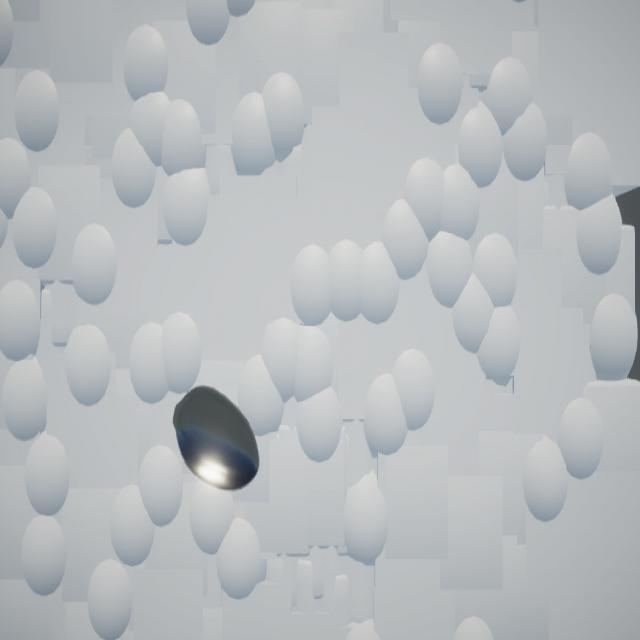top_spoon: (174, 386, 261, 493)
